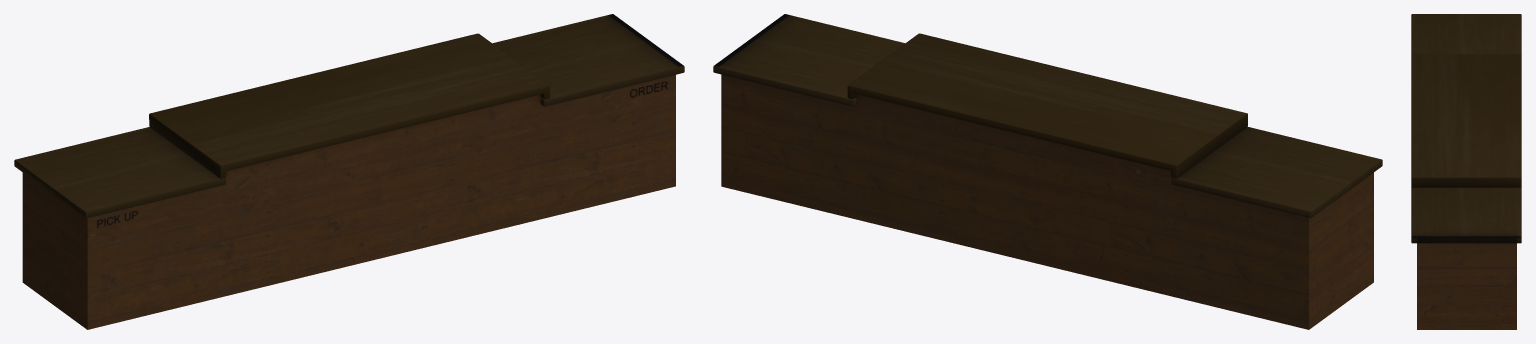
Rendered from LC_3013_Cafecounter_LOD2.FBX.
3 views of the same model, side by side, from view 1: azimuth 30°, elevation 25°; view 2: azimuth 150°, elevation 25°; view 3: azimuth 270°, elevation 25° (orthographic). The views are drawn at different scales.
Visible parts, largest first — view 1: LC_3013_Cafecounter_LOD2; view 2: LC_3013_Cafecounter_LOD2; view 3: LC_3013_Cafecounter_LOD2.
Boxes of the visible parts, x1,y1,x2,y2 form: LC_3013_Cafecounter_LOD2: (14,14,684,329); LC_3013_Cafecounter_LOD2: (713,14,1382,329); LC_3013_Cafecounter_LOD2: (1411,14,1521,329).
Size of the model in its own units: 458 by 98.79 by 95.
Materials: 1 (1 with a texture image).
